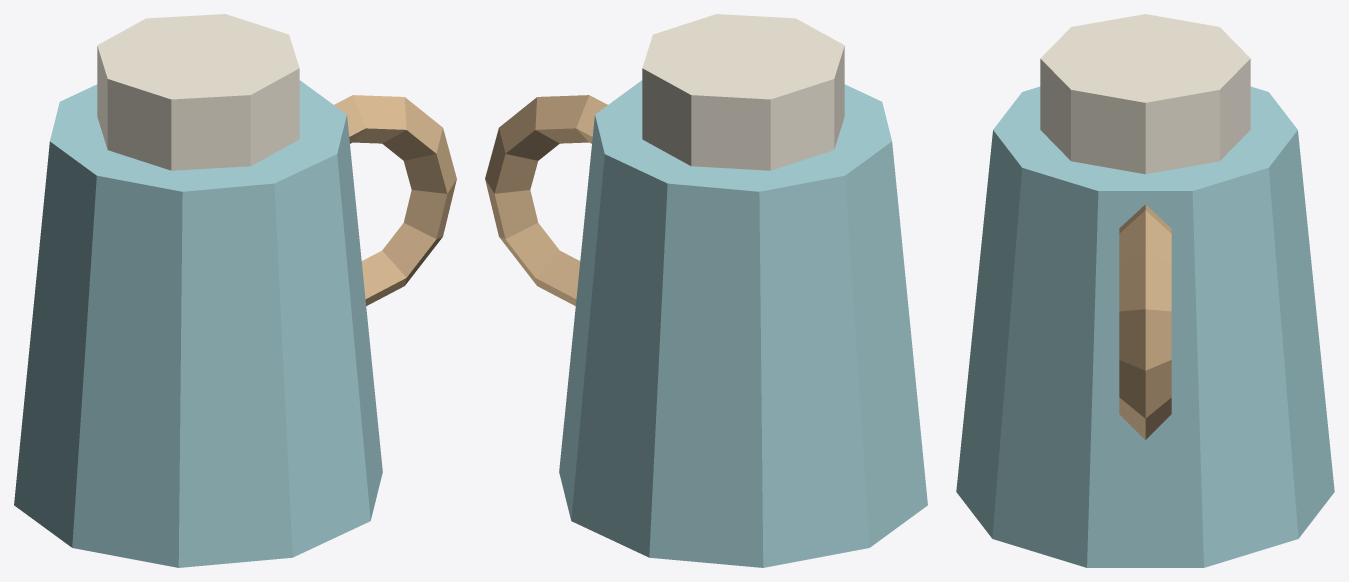
File: cargo_water.fbx
3 renders of one model, left to right at view 1: azimuth 30°, elevation 25°; view 2: azimuth 150°, elevation 25°; view 3: azimuth 270°, elevation 25°, orthographic.
Visible parts, largest first — view 1: cargo_water_mesh; view 2: cargo_water_mesh; view 3: cargo_water_mesh.
Boxes of the visible parts, <box> form: cargo_water_mesh: <box>14,14,456,567</box>; cargo_water_mesh: <box>485,14,927,567</box>; cargo_water_mesh: <box>956,14,1334,567</box>.
Bounding box in the file's own units: 0.4562 × 0.455 × 0.36.
